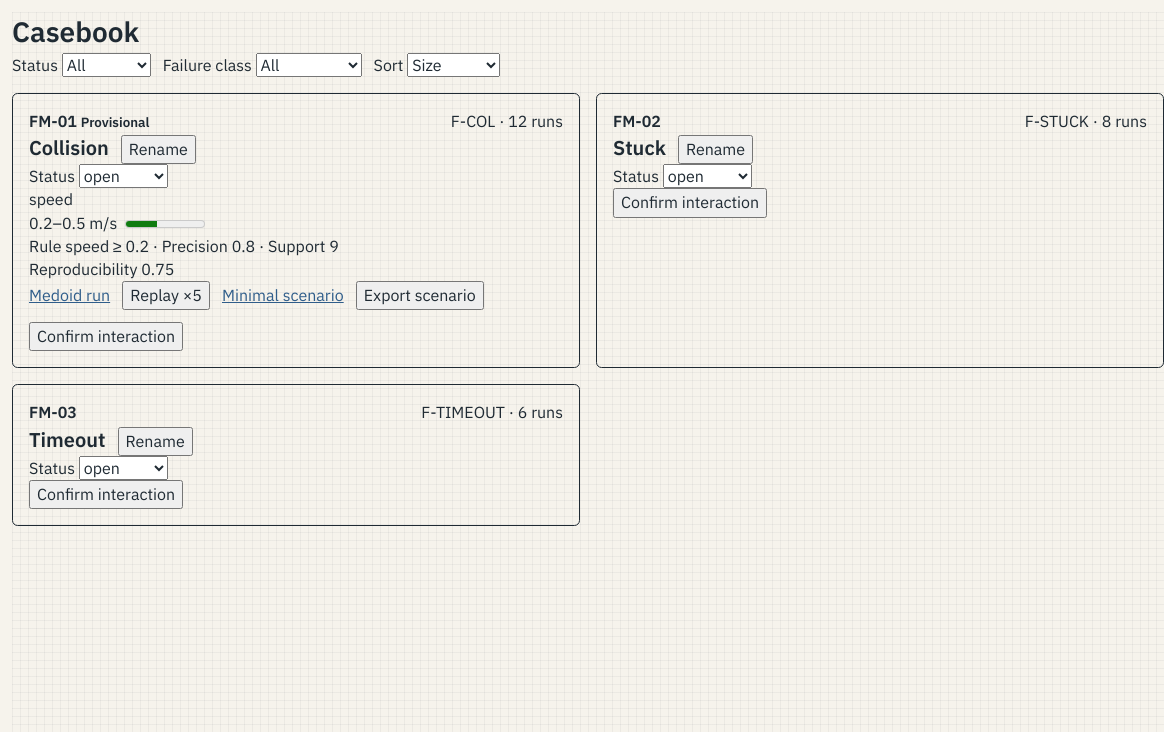
shows evidence, filters cases, and queues confirmation for the selected mode
Check: the text "Rule speed ≥ 0.2 · Precision 0.8 · Support 9" is shown, box [29,236,339,256]
Check: the text "Reproducibility 0.75" is shown, box [29,259,174,279]
Select "F-COL" in the dropdown labelled "Failure class": coordinates (309, 65) [256,53,362,77]
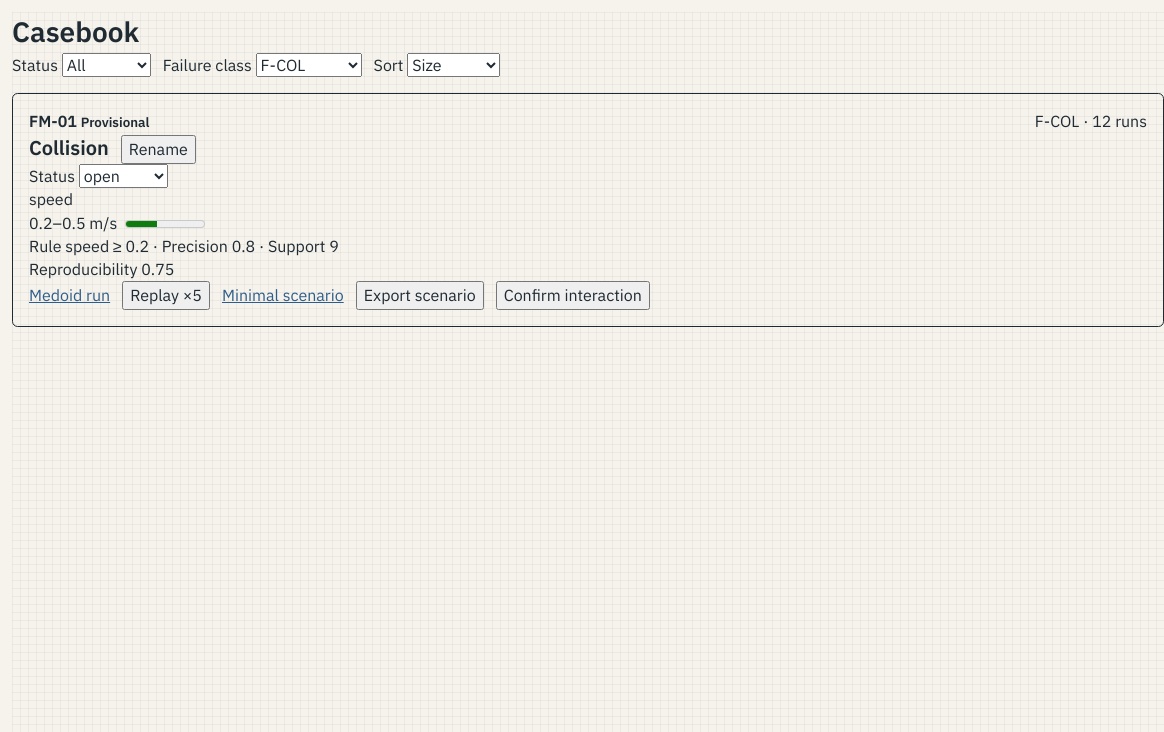
Click the button "Confirm interaction": coordinates (573, 296) [496,281,650,310]
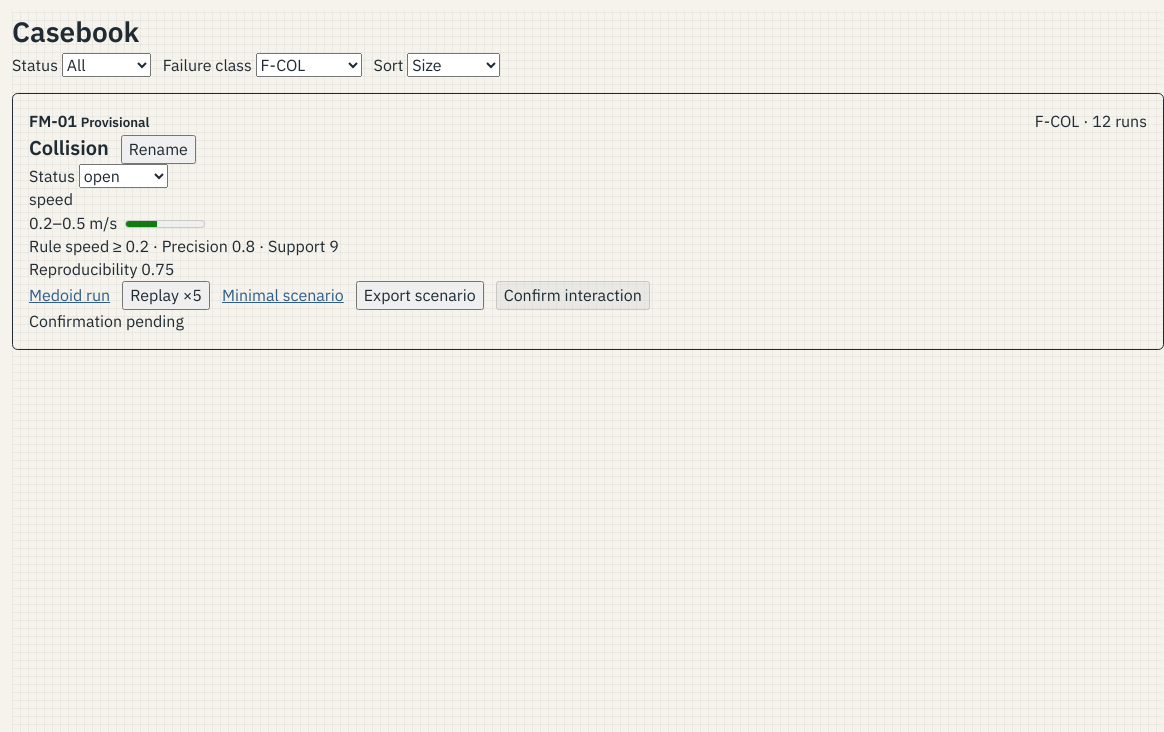
Check: the text "Confirmation pending" is shown, box [29,311,184,331]
